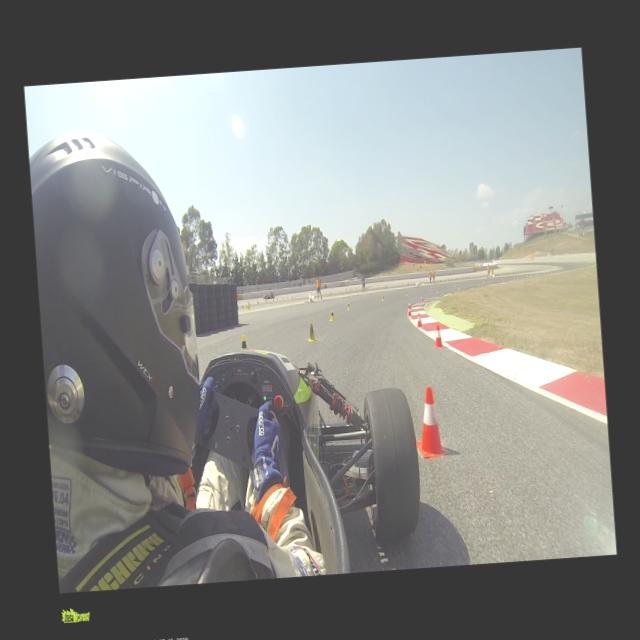orange_cone: (411, 387, 448, 460), (432, 325, 444, 349), (415, 312, 422, 327), (406, 304, 412, 316), (406, 301, 411, 310), (420, 294, 423, 302), (436, 290, 439, 296), (458, 287, 460, 291), (478, 284, 480, 288), (516, 276, 518, 280), (538, 272, 539, 276), (502, 279, 503, 282), (550, 271, 551, 274), (530, 274, 530, 277)
yellow_cone: (306, 321, 316, 342), (240, 334, 247, 350), (328, 308, 335, 320), (346, 302, 350, 310), (380, 294, 384, 302), (405, 290, 408, 296), (430, 286, 432, 290), (454, 282, 456, 286), (248, 306, 250, 310), (246, 304, 248, 308), (257, 300, 259, 304), (272, 298, 274, 302), (483, 278, 484, 282), (265, 300, 266, 304), (501, 276, 502, 279), (526, 274, 527, 276), (514, 275, 514, 278), (242, 304, 242, 308)
